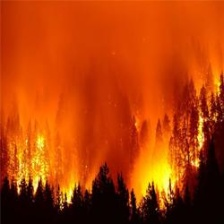fire: (126, 75, 224, 211), (8, 125, 81, 217)
